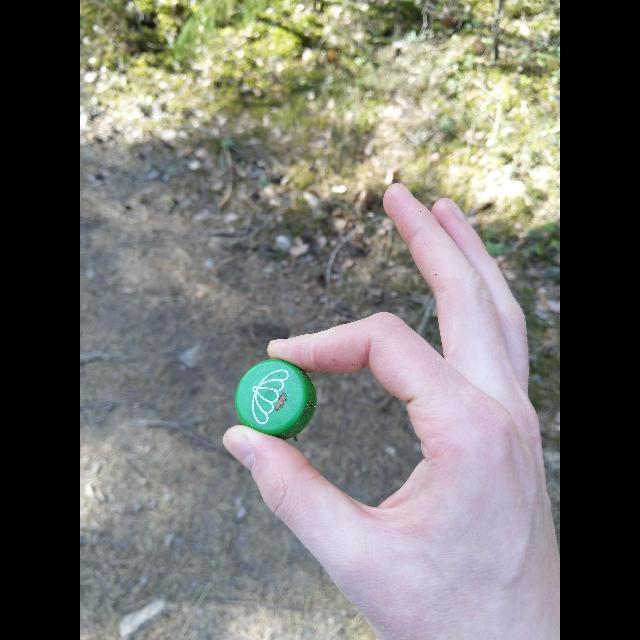Plastic: (235, 358, 317, 439)
